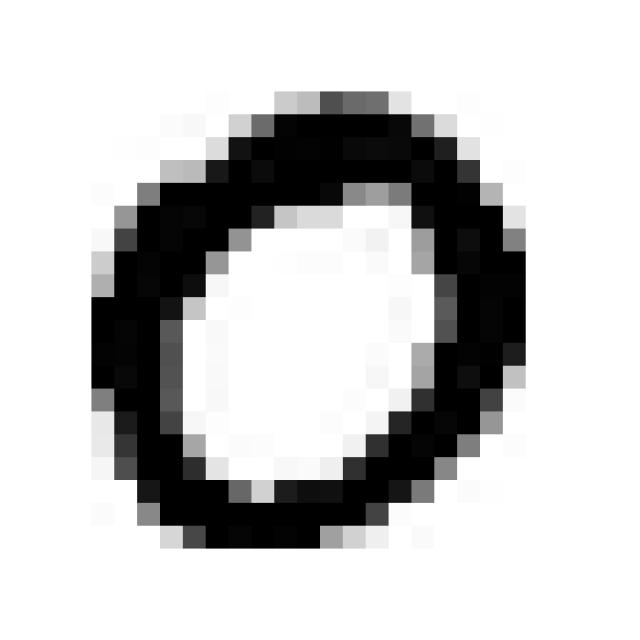5 -five-: (76, 66, 543, 563)
